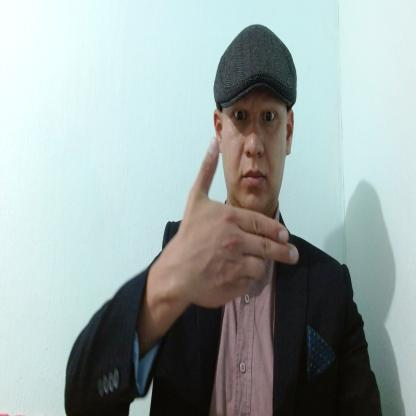H: (181, 136, 300, 308)
